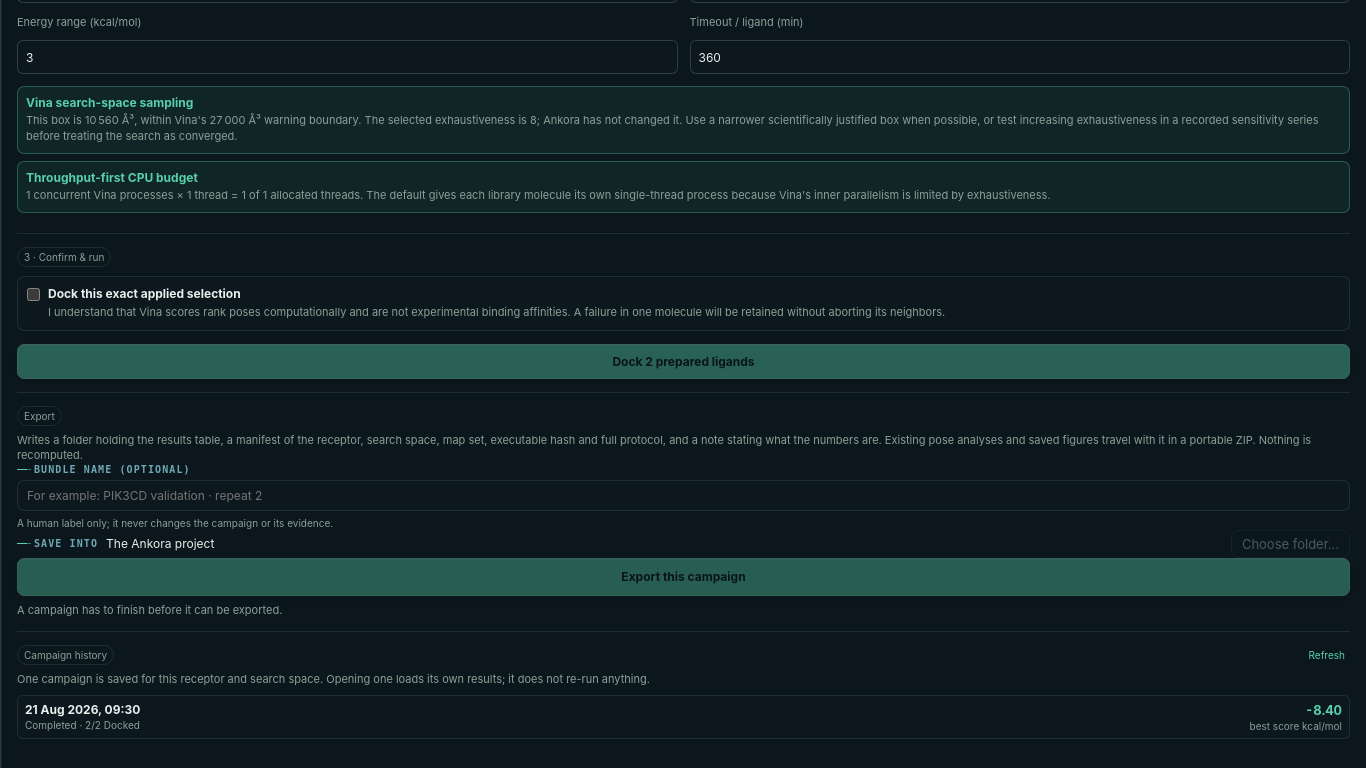
opens an earlier Vina campaign and shows its own results
(page scrolled)
Click the text "-8.40" at (1323,710), box x1=1305 y1=702 x2=1342 y2=718
(page scrolled)
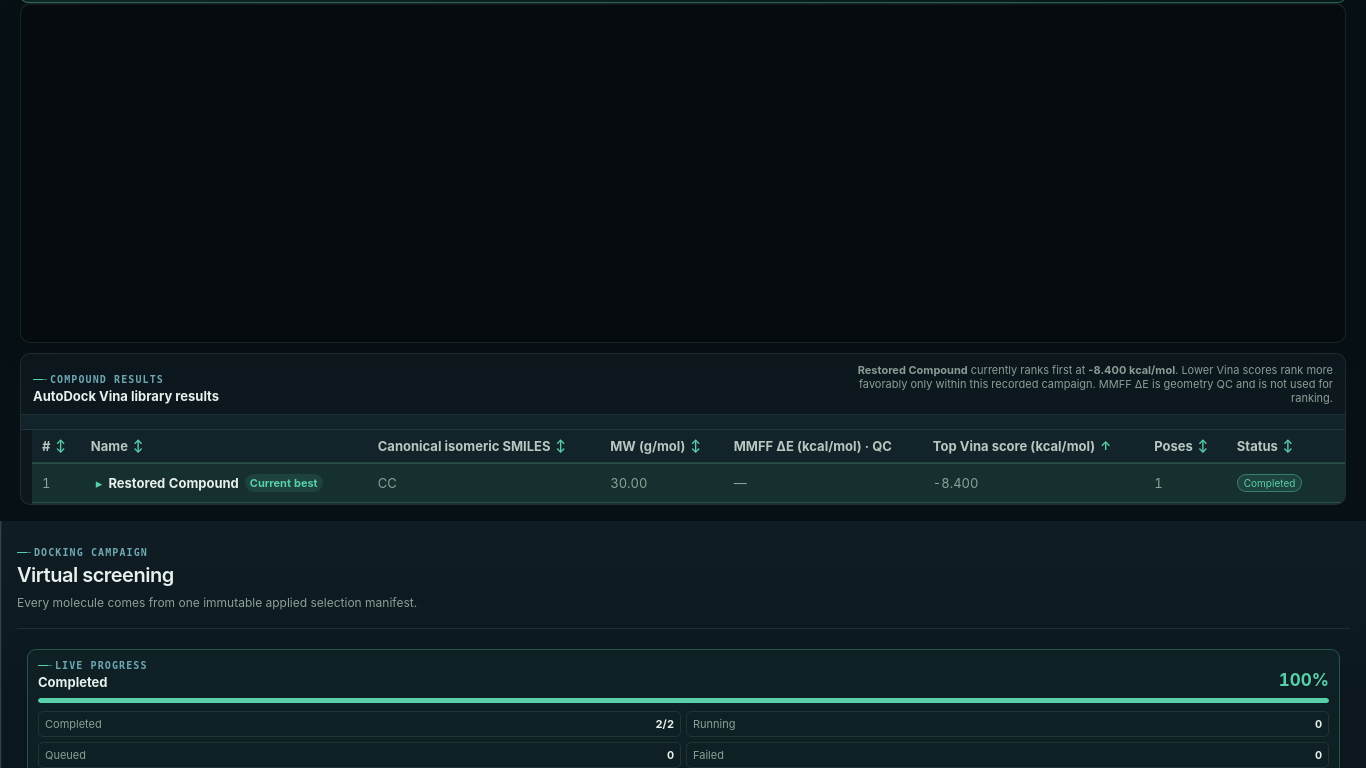
Result: the text "currently ranks first" shows "Restored Compound currently ranks first at -8.400 kcal/mol" at x1=853 y1=362 x2=1333 y2=404
